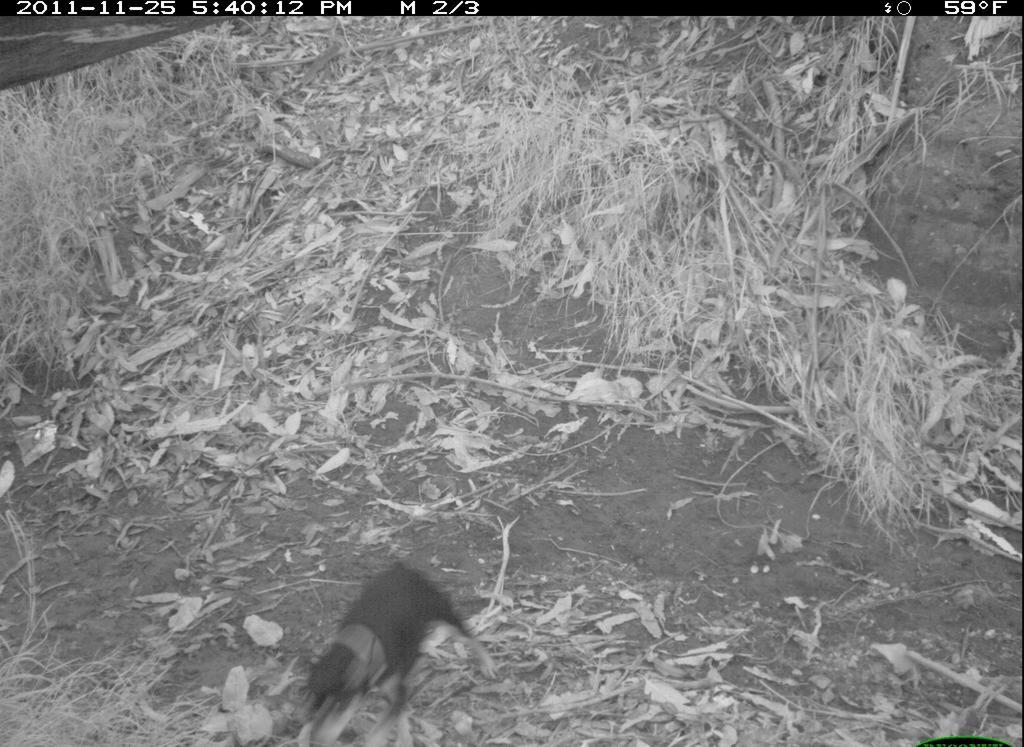dog: (295, 560, 504, 747)
